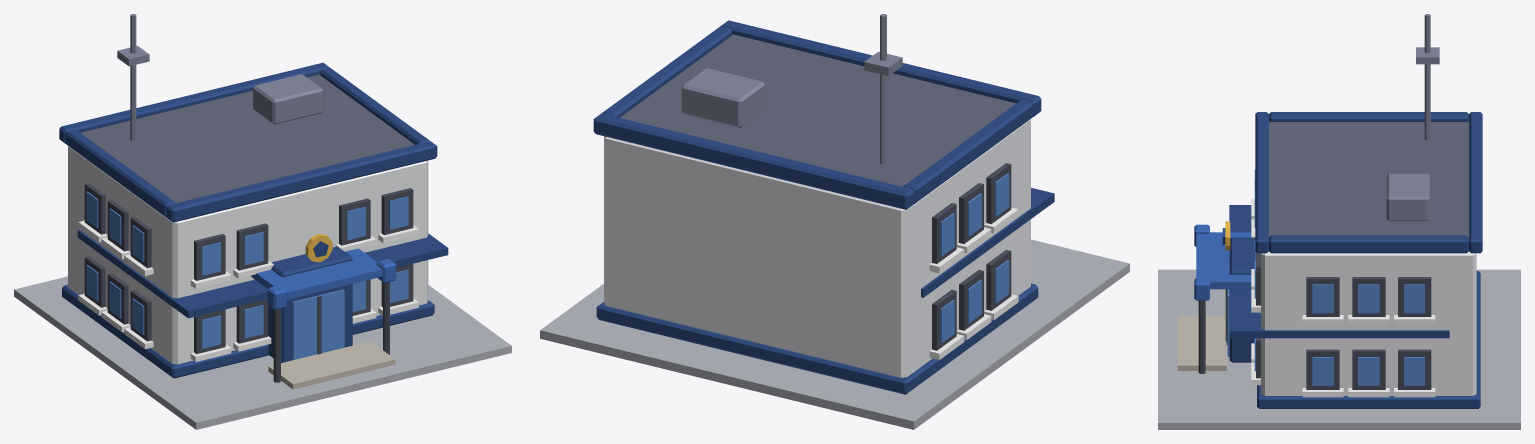
File: police-station.glb
The picture shows the model from 3 angles, left to right: view 1: azimuth 30°, elevation 25°; view 2: azimuth 150°, elevation 25°; view 3: azimuth 270°, elevation 25°; orthographic projection. The views are drawn at different scales.
Parts seen in each view (by area): view 1: model; view 2: model; view 3: model.
Part boxes in pixels (bbox=[...]): model: bbox=[14, 14, 511, 429]; model: bbox=[540, 14, 1129, 429]; model: bbox=[1158, 14, 1520, 429].
Bounding box in the file's own units: 1.85 × 1.67 × 1.85.
Materials: 1 (1 with a texture image).
